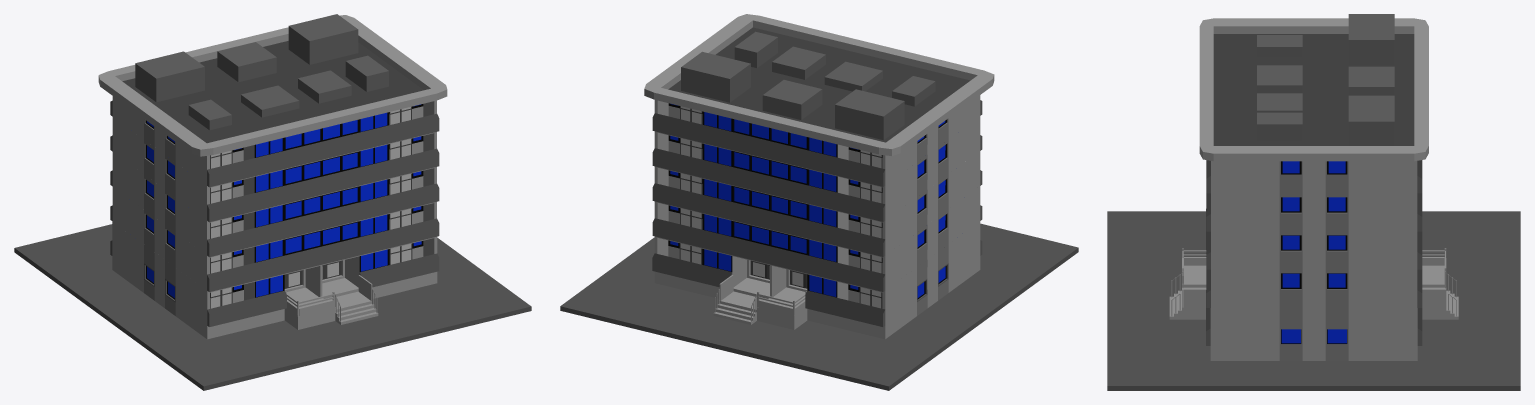
The model's file is Immeuble3_2.glb.
3 views of the same model, side by side, from view 1: azimuth 30°, elevation 25°; view 2: azimuth 150°, elevation 25°; view 3: azimuth 270°, elevation 25° (orthographic). The views are drawn at different scales.
Visible parts, largest first — view 1: Immeuble3_2; view 2: Immeuble3_2; view 3: Immeuble3_2.
Boxes of the visible parts, <box> form: Immeuble3_2: <box>14,14,531,390</box>; Immeuble3_2: <box>560,14,1078,390</box>; Immeuble3_2: <box>1107,14,1520,390</box>.
Size of the model in its own units: 25 by 15.75 by 25.
